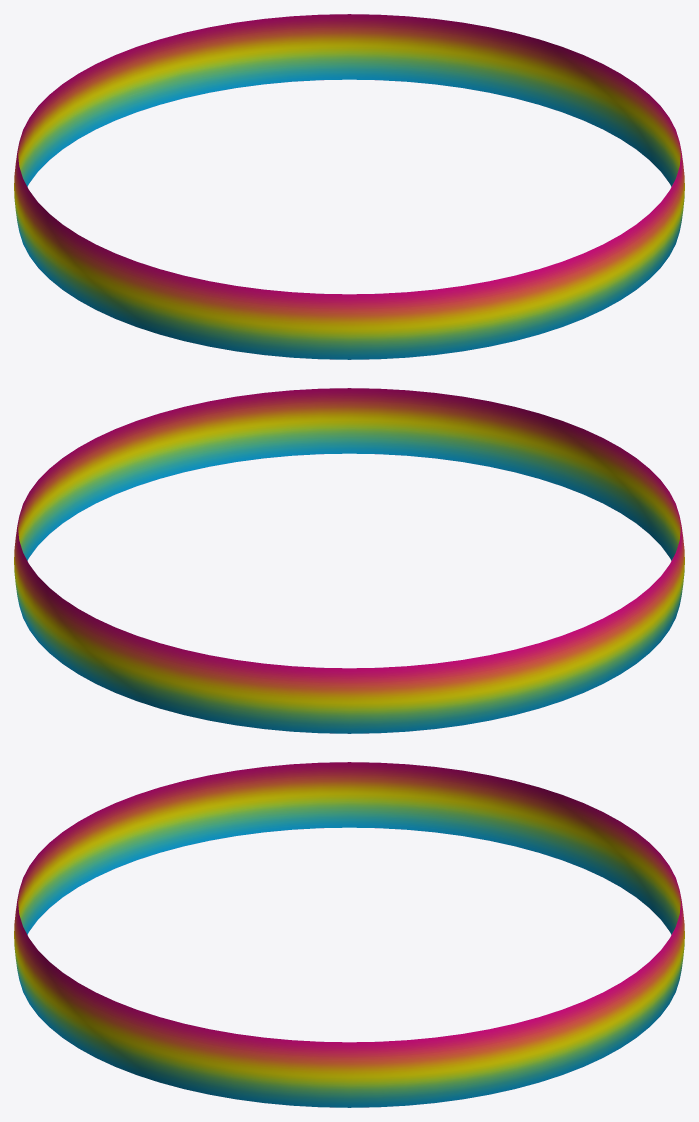
File: RainBow1.fbx
3 views of the same model, one above another, from view 1: azimuth 30°, elevation 25°; view 2: azimuth 150°, elevation 25°; view 3: azimuth 270°, elevation 25° (orthographic).
Visible parts, largest first — view 1: SM_SlamCircle; view 2: SM_SlamCircle; view 3: SM_SlamCircle.
Boxes of the visible parts, x1,y1,x2,y2 form: SM_SlamCircle: [14, 14, 684, 359]; SM_SlamCircle: [14, 388, 684, 733]; SM_SlamCircle: [14, 762, 684, 1107].
Bounding box in the file's own units: 49.18 × 5.3 × 49.18.
